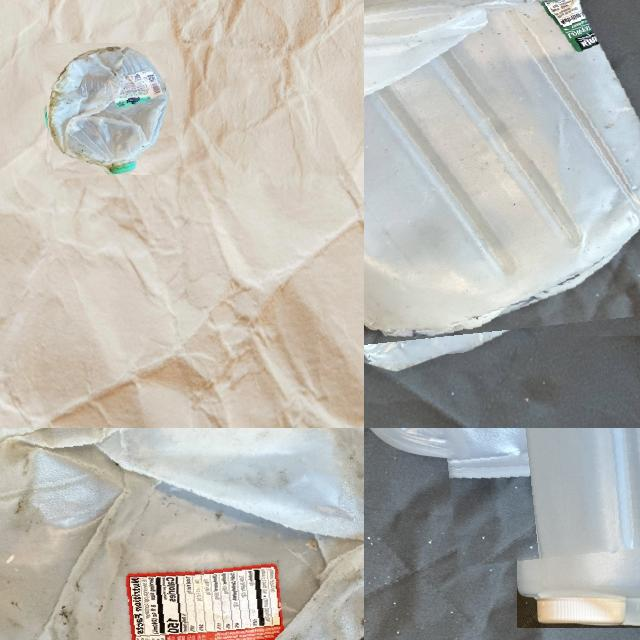milk-jug: (364, 0, 640, 364), (0, 428, 364, 640), (426, 428, 640, 557), (42, 42, 178, 177)
